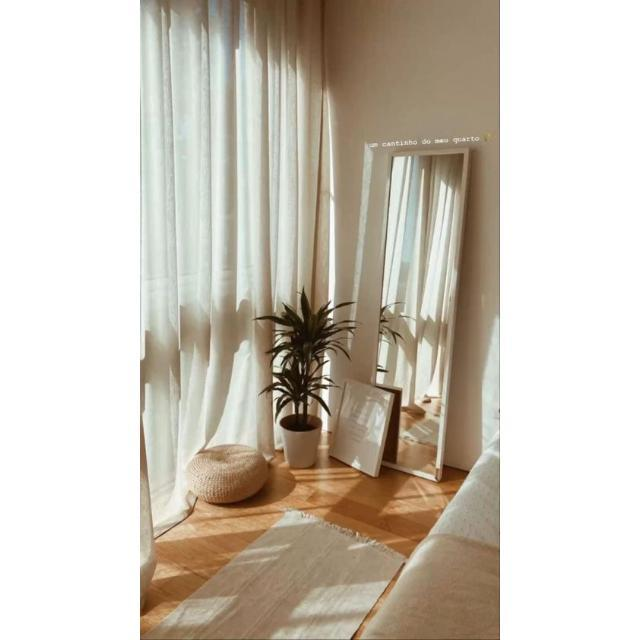bed: (360, 434, 500, 640)
chair: (189, 444, 268, 503)
curtain: (141, 0, 326, 535)
plant: (258, 290, 355, 468)
rug: (144, 510, 405, 640)
wall-art: (330, 380, 394, 477)
